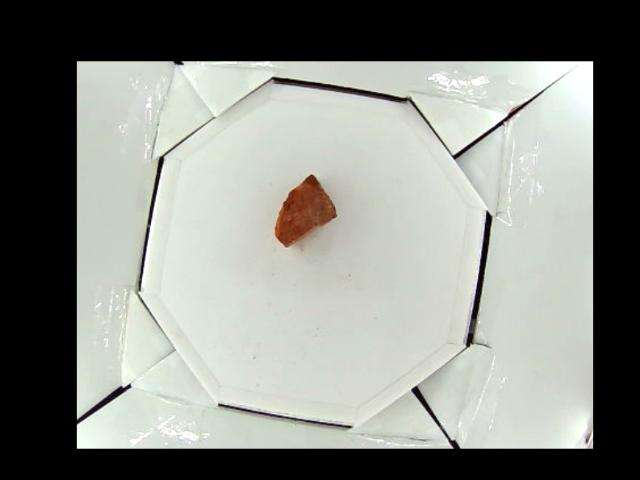Brisk: (272, 174, 336, 246)
